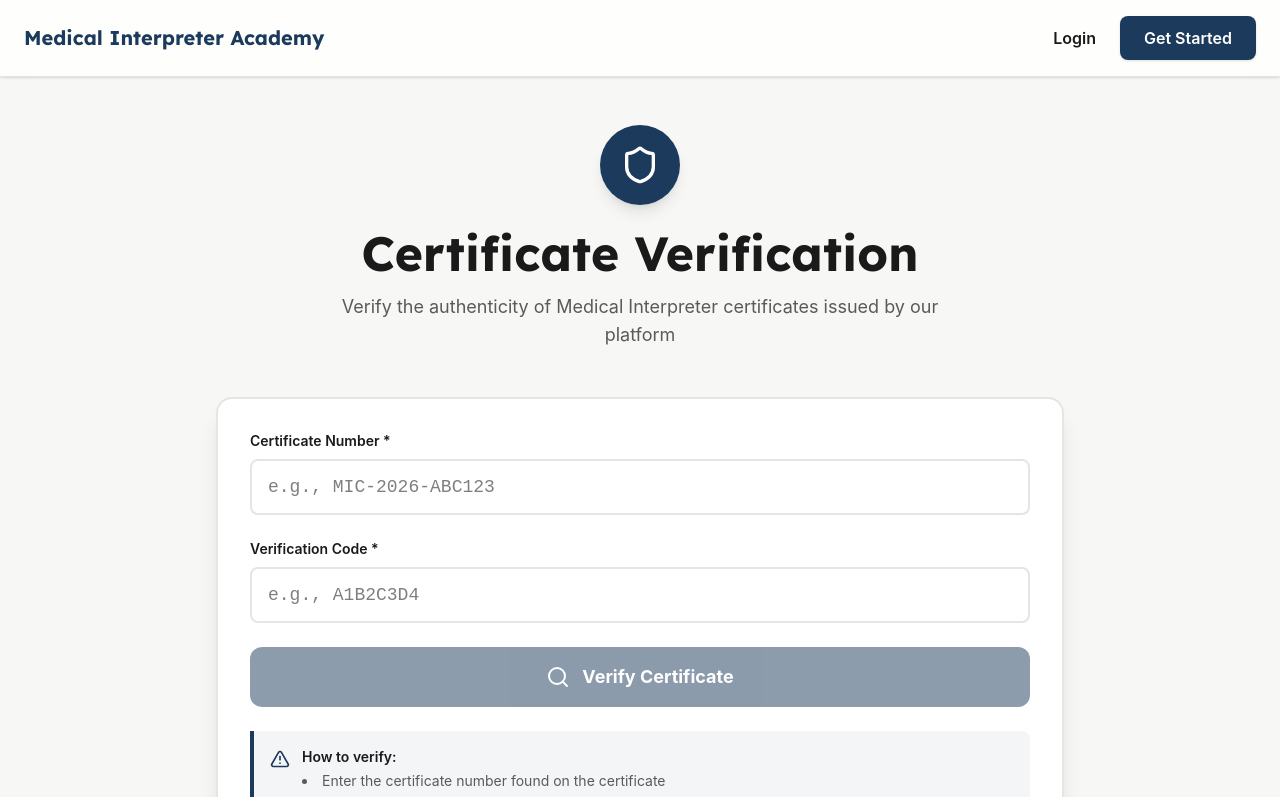
Test: VerifyCertificate Page › Valid Certificate Result › should display success message
The image size is (1280, 797).
Type "MIC-2024-001" into the field with placeholder "e.g., MIC-2026-ABC123" at (640, 487), box [250, 459, 1030, 515]
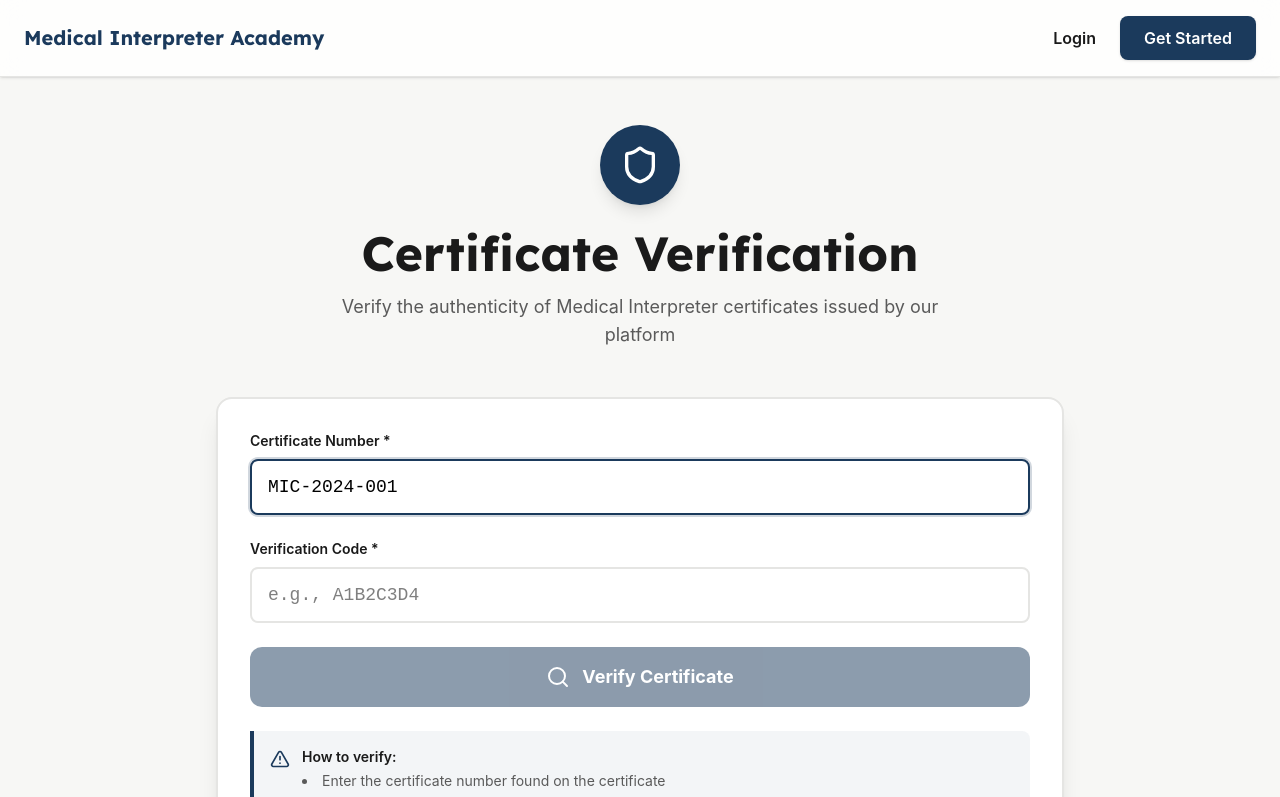
Type "ABC123" into the field with placeholder "e.g., A1B2C3D4" at (640, 595), box [250, 567, 1030, 623]
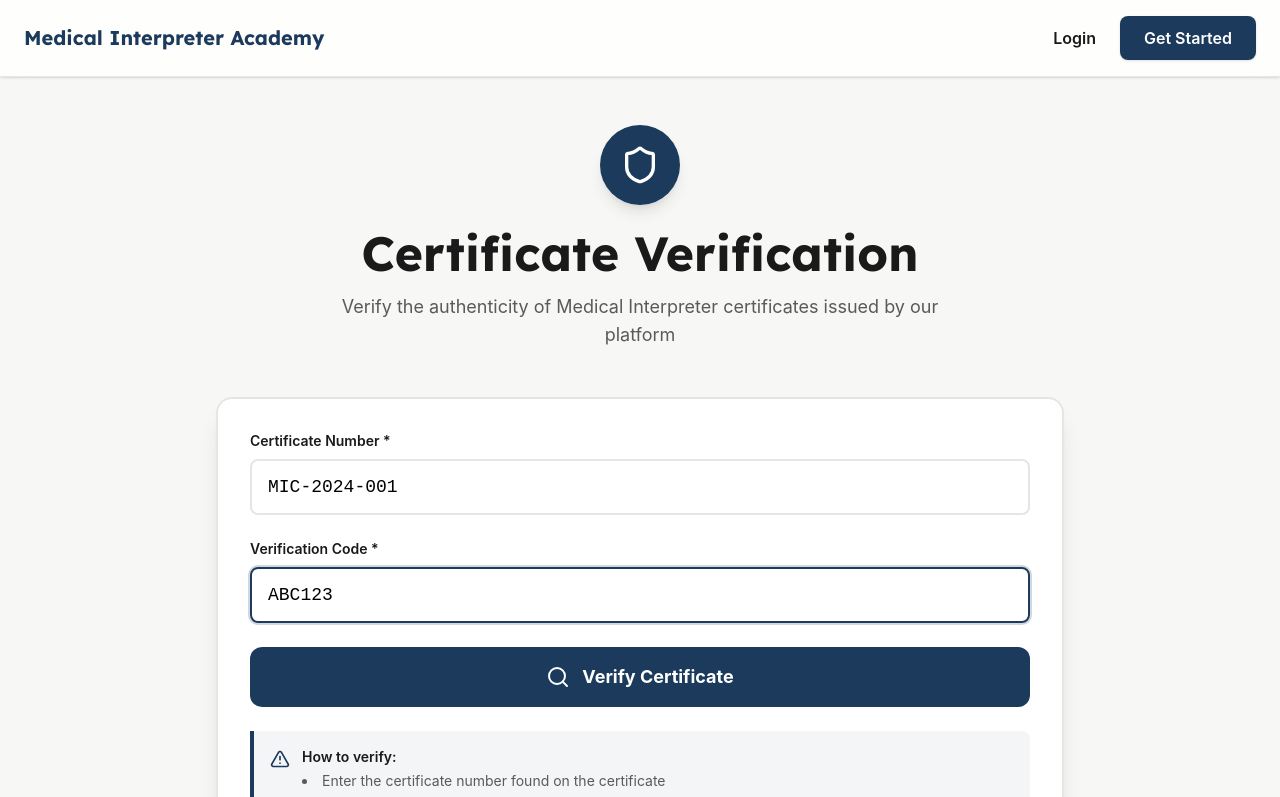
Click the button "Verify Certificate" at (640, 677), box [250, 647, 1030, 707]
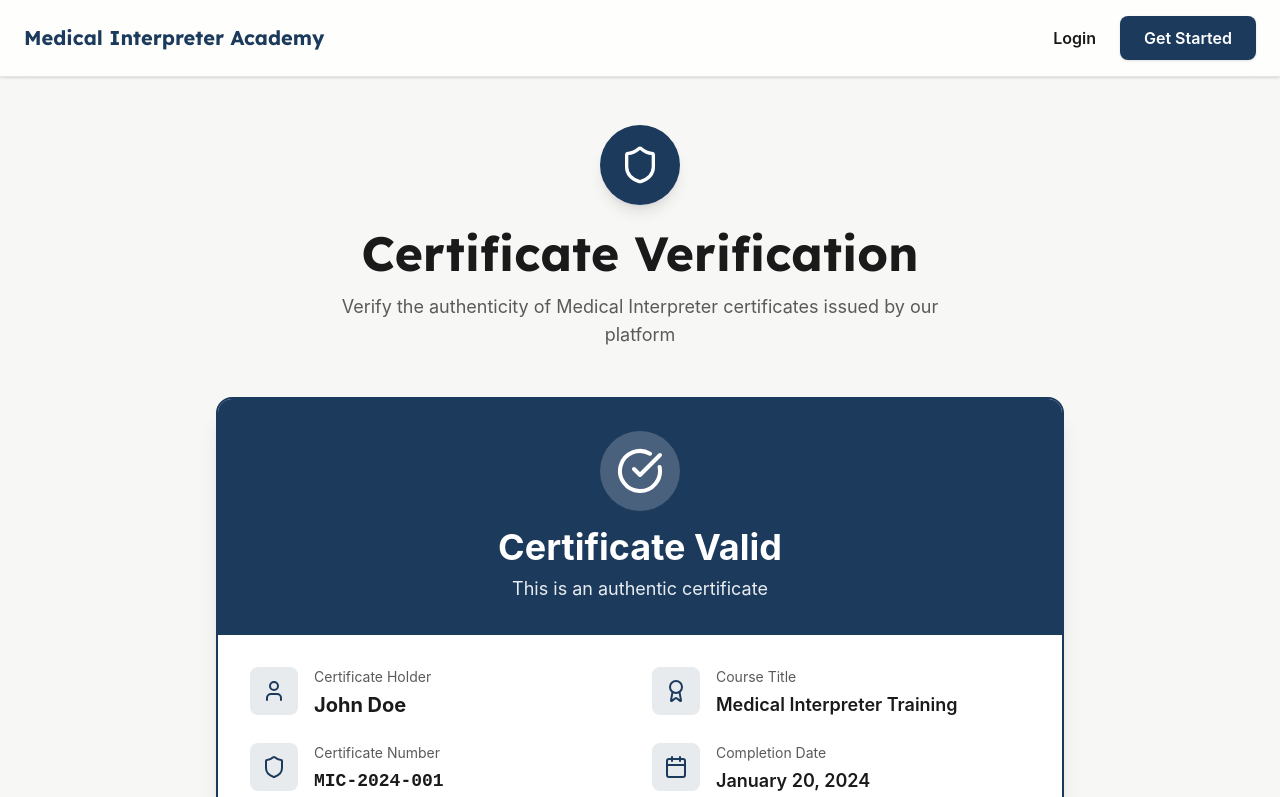
Now the heading "Certificate Valid" is shown, box [498, 525, 782, 569]
Now the text "This is an authentic certificate" is shown, box [512, 578, 768, 599]
